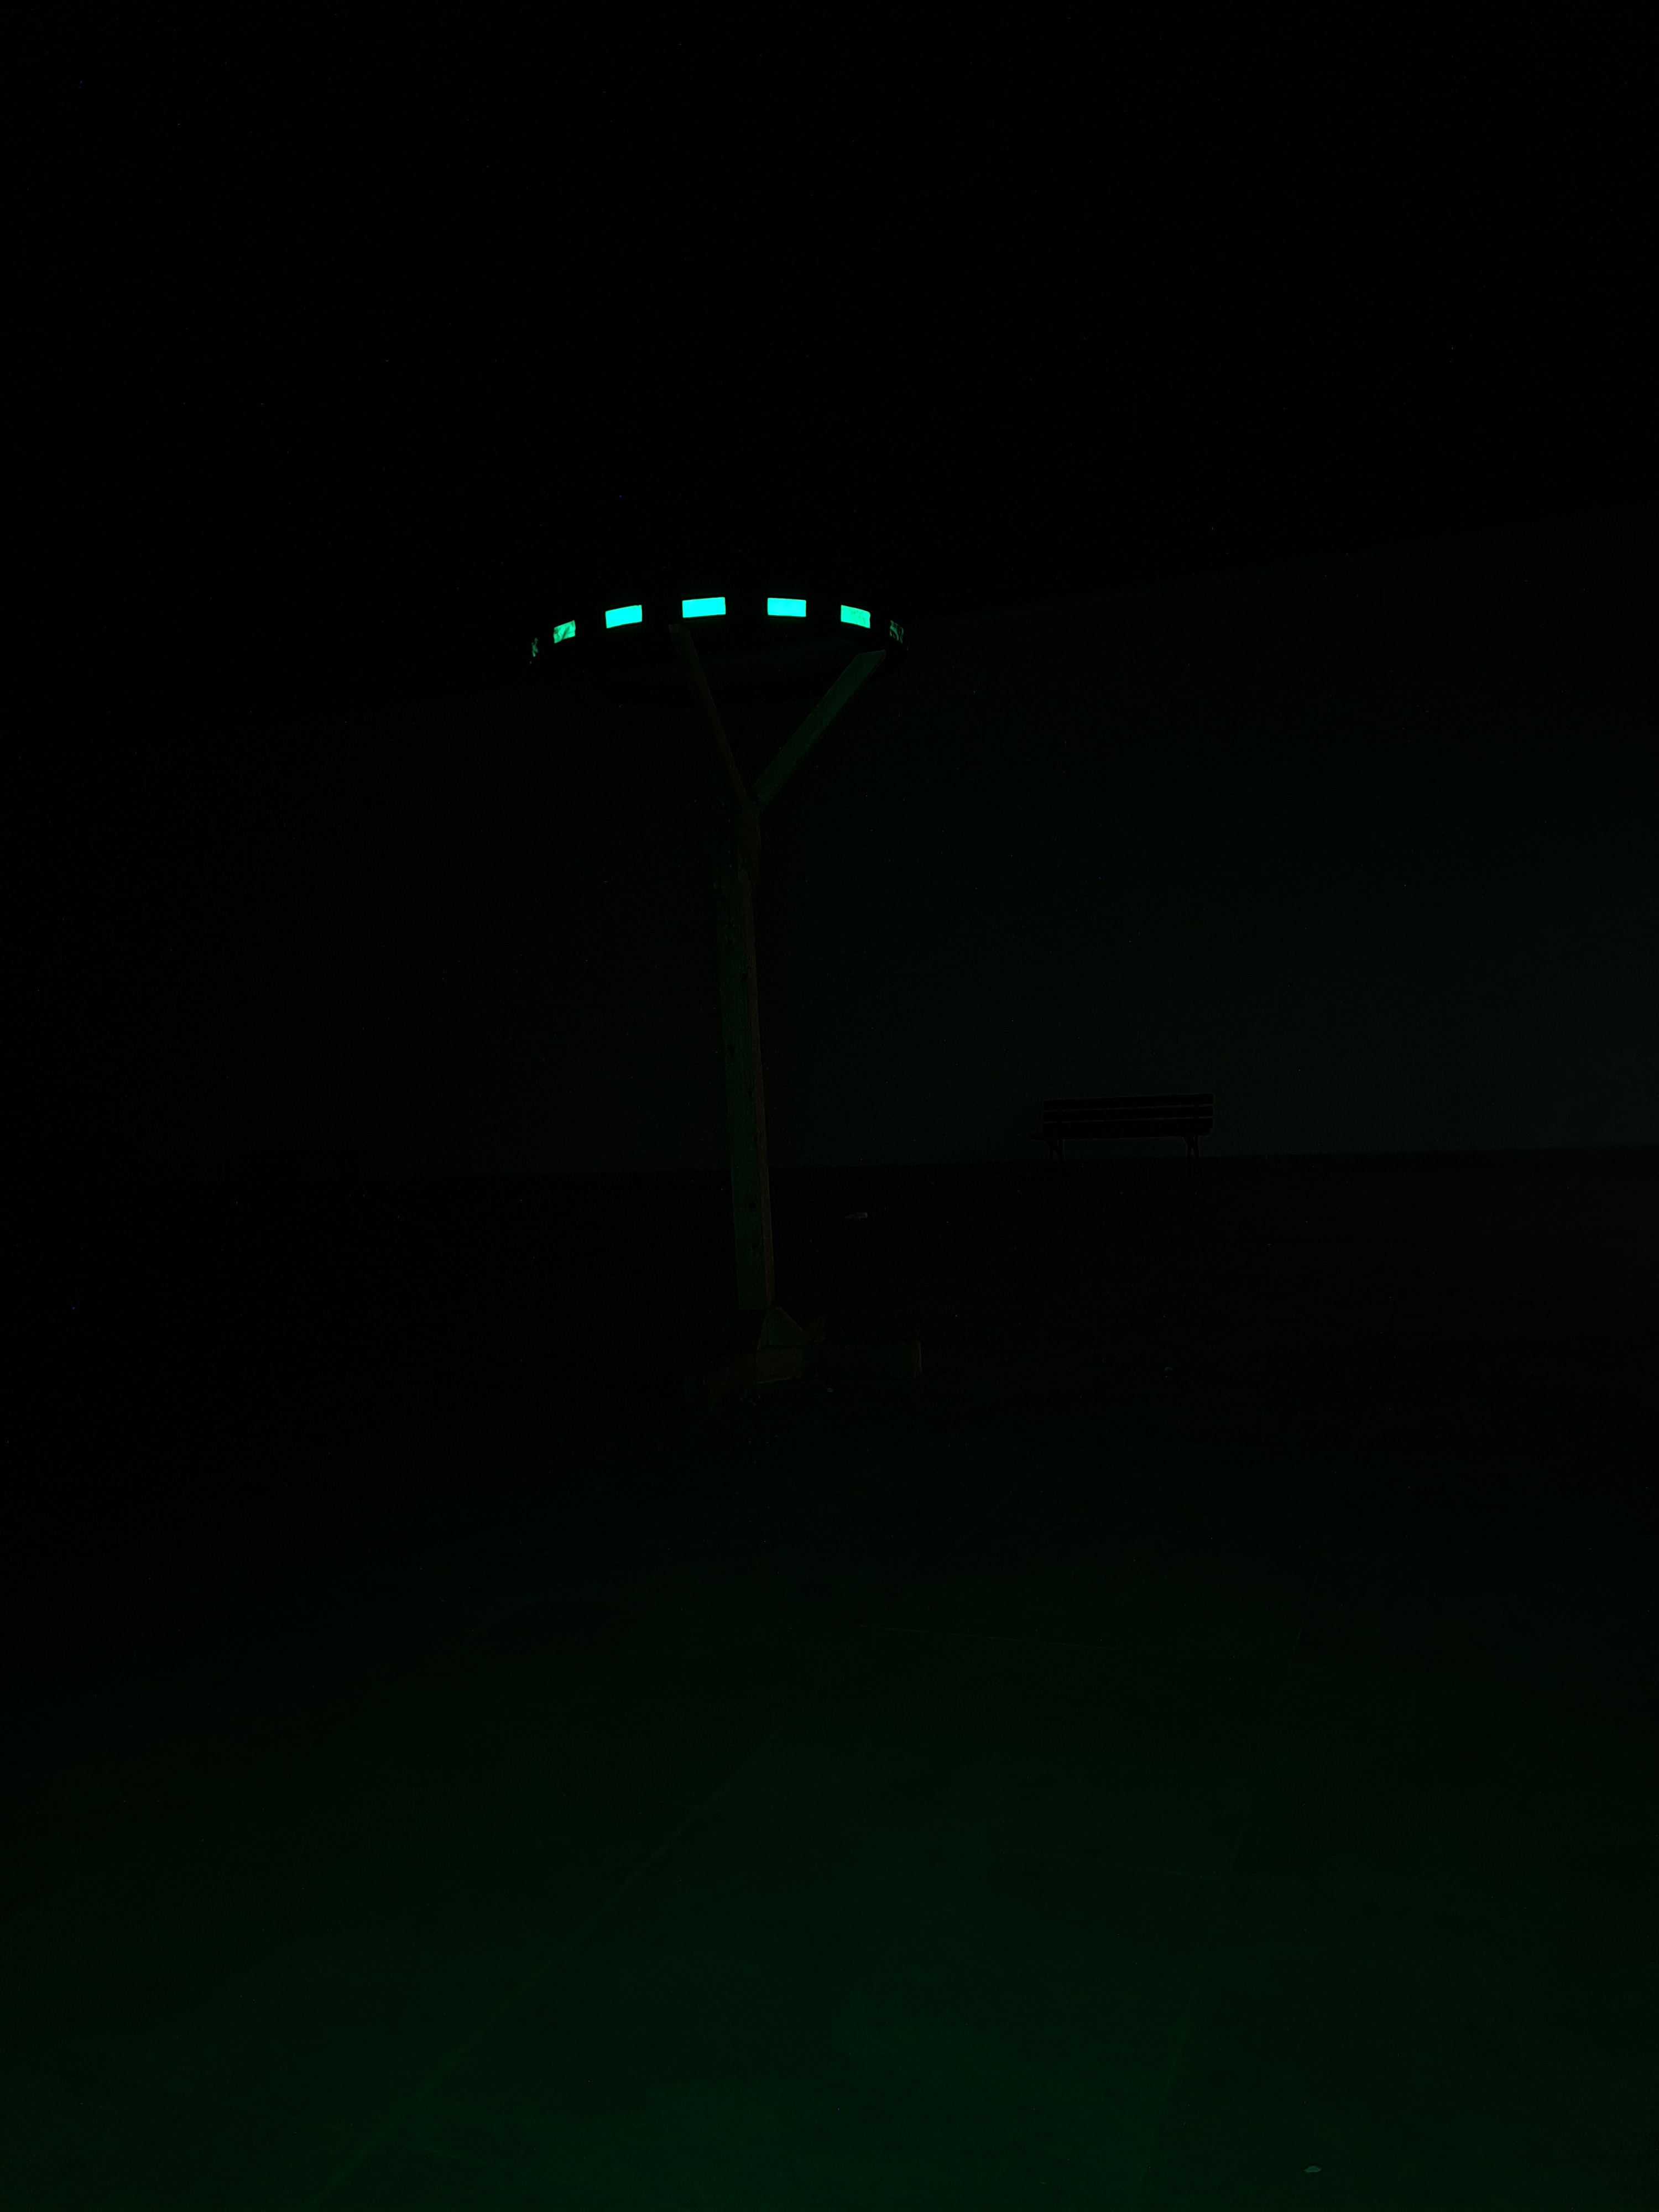hoop: (525, 590, 908, 655)
